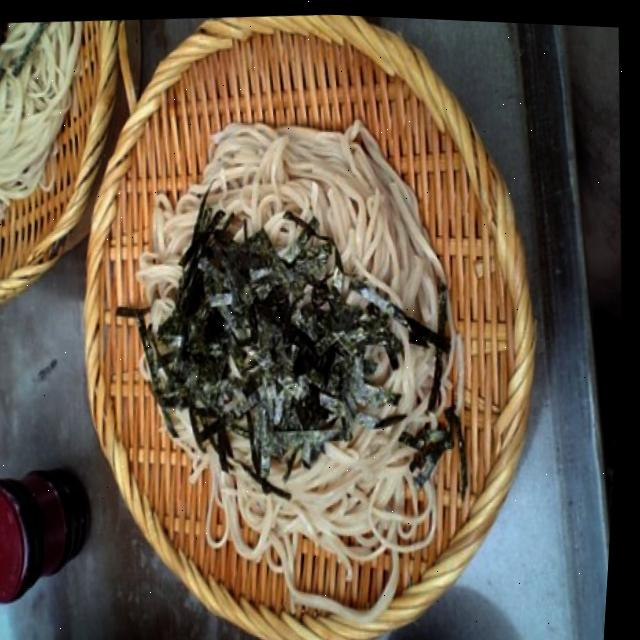面条主食: (91, 37, 509, 595)
